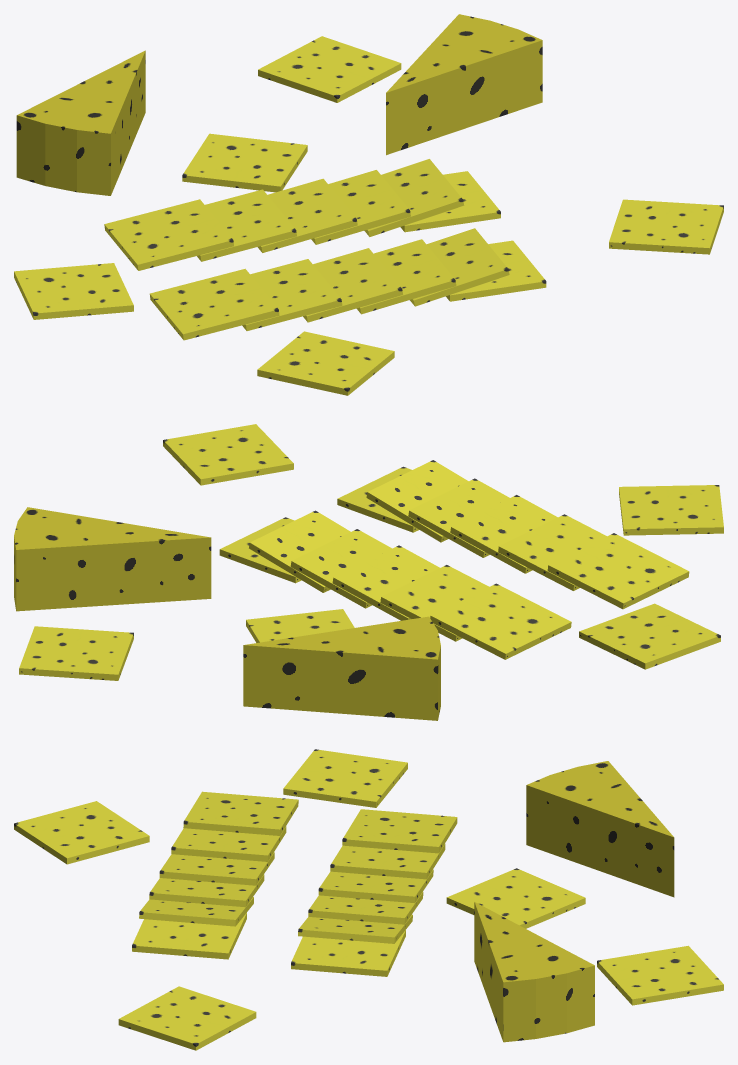
File: CheeseTable.fbx
The picture shows the model from 3 angles, top to bottom: view 1: azimuth 30°, elevation 25°; view 2: azimuth 150°, elevation 25°; view 3: azimuth 270°, elevation 25°; orthographic projection. The views are drawn at different scales.
Parts seen in each view (by area): view 1: Cheese; view 2: Cheese; view 3: Cheese.
Boxes of the visible parts, x1,y1,x2,y2 form: Cheese: [14, 14, 723, 395]; Cheese: [14, 424, 723, 720]; Cheese: [14, 749, 723, 1050].
Bounding box in the file's own units: 178 × 16.85 × 181.
